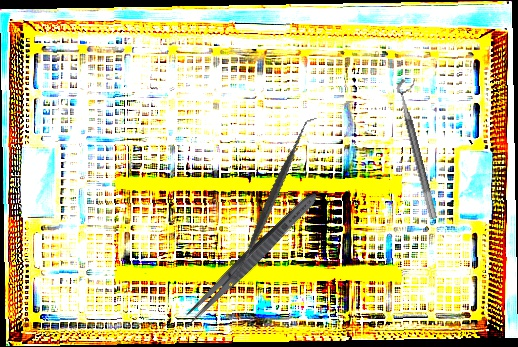Dressing Forceps: (177, 186, 324, 333)
Fixation Ring: (394, 76, 449, 220)
Spatula Surgical: (191, 116, 354, 281)
